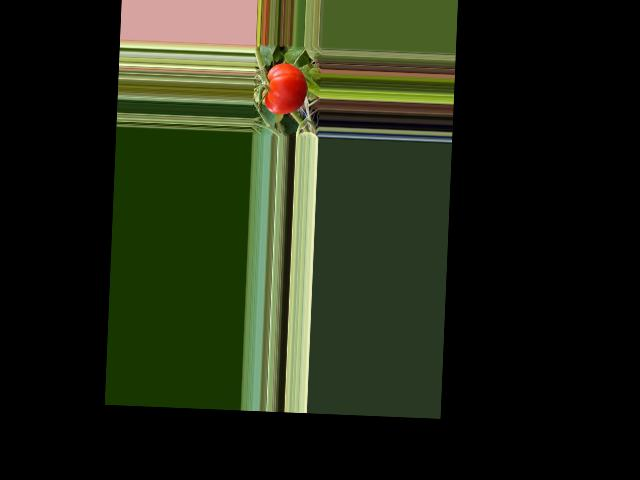tomato: (264, 62, 308, 115)
